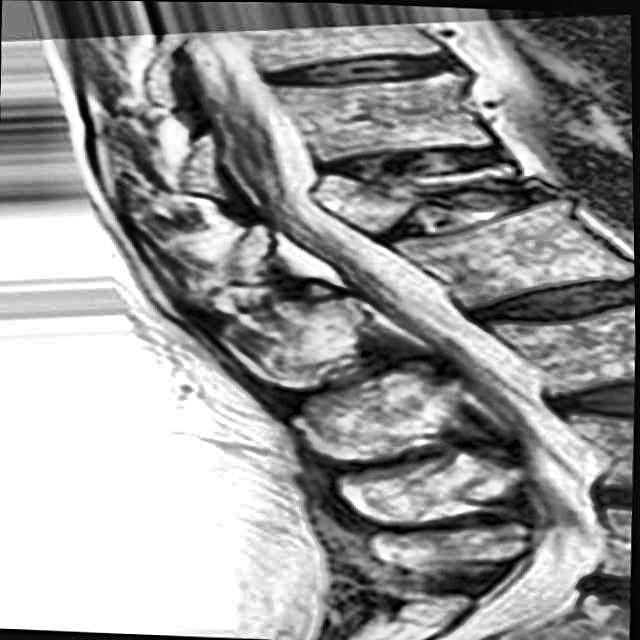Comminuted: (299, 123, 547, 239)
